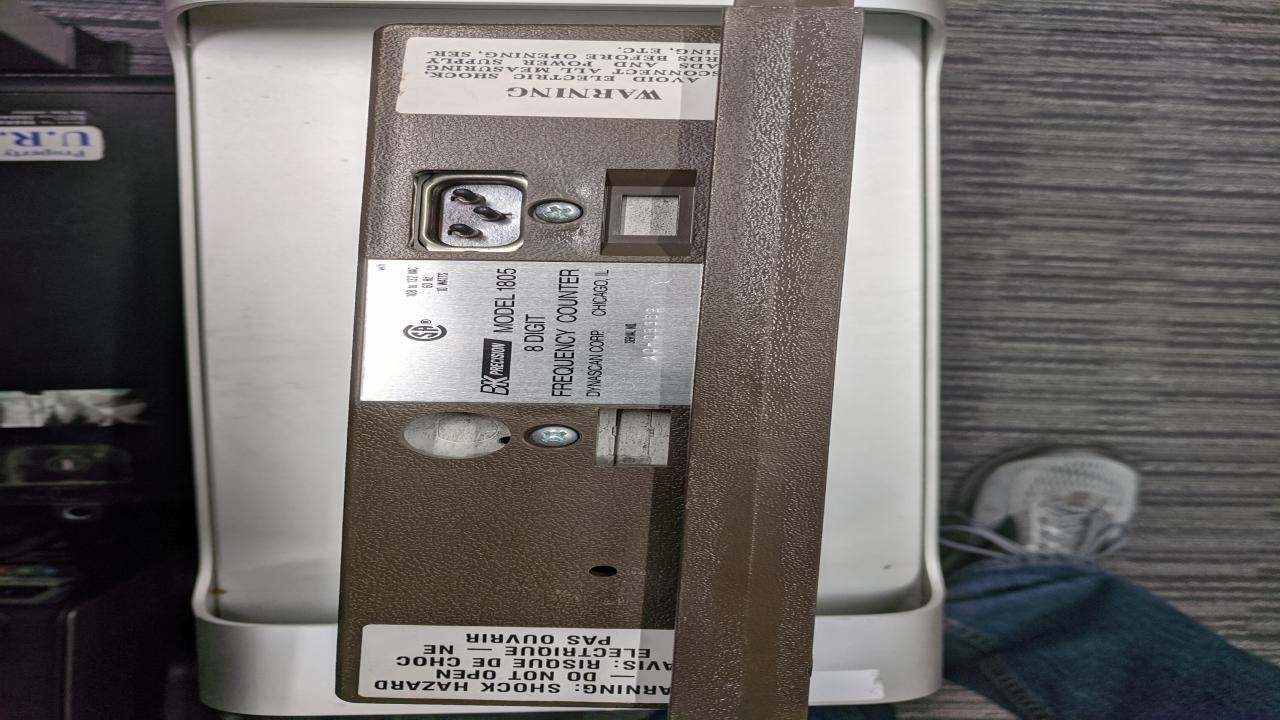CRS: (528, 197, 586, 225), (524, 424, 586, 450)
